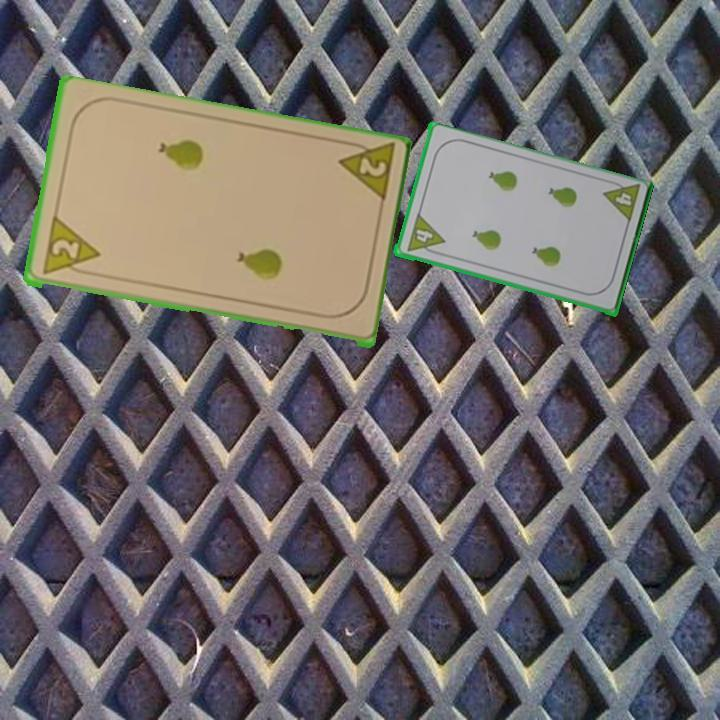2p: (334, 137, 398, 208), (38, 215, 102, 278)
4p: (599, 176, 643, 227), (403, 211, 447, 258)
